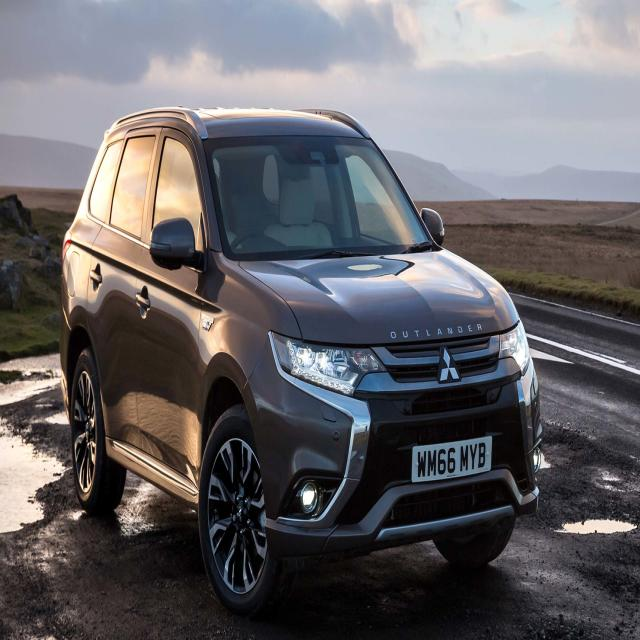light_vehicle: (58, 107, 546, 617)
